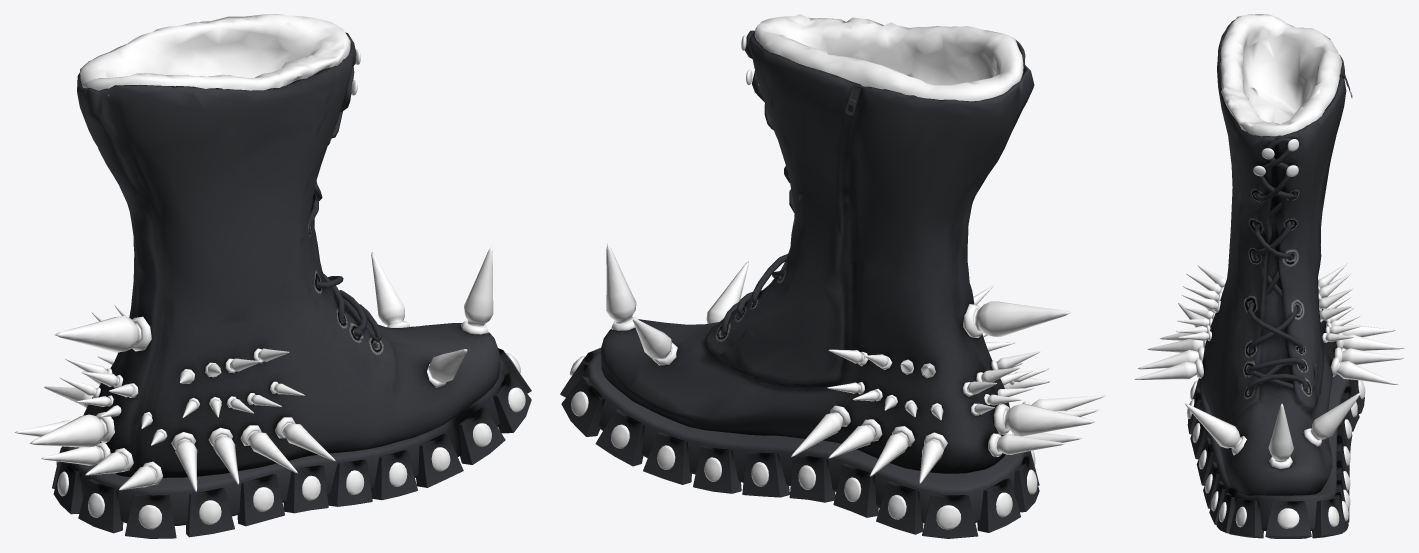
The model's file is boot_right.fbx.
The picture shows the model from 3 angles, left to right: view 1: azimuth 30°, elevation 25°; view 2: azimuth 150°, elevation 25°; view 3: azimuth 270°, elevation 25°; orthographic projection. The views are drawn at different scales.
Parts seen in each view (by area): view 1: boot_main_lo; view 2: boot_main_lo; view 3: boot_main_lo.
Part boxes in pixels (x1=…): boot_main_lo: x1=14, y1=14, x2=531, y2=538; boot_main_lo: x1=560, y1=14, x2=1105, y2=538; boot_main_lo: x1=1134, y1=14, x2=1404, y2=538.
Size of the model in its own units: 371 by 326 by 205.
Materials: 3 (1 with a texture image).
